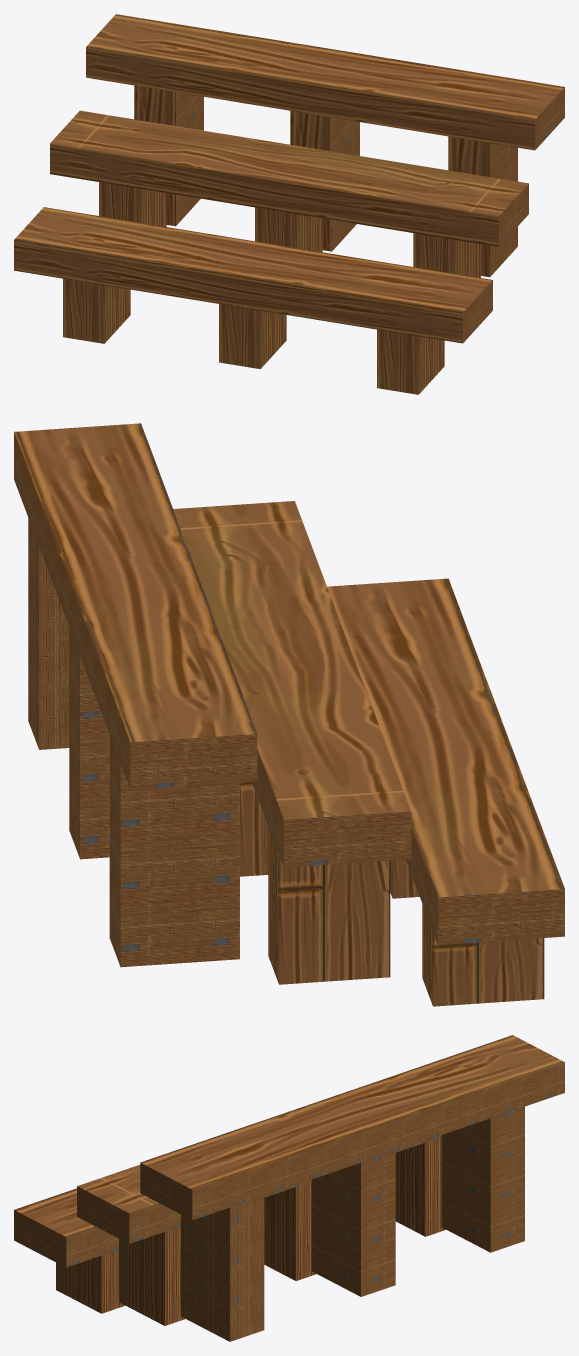
3 views of the same model, one above another, from view 1: azimuth 30°, elevation 25°; view 2: azimuth 150°, elevation 25°; view 3: azimuth 270°, elevation 25° (orthographic). The views are drawn at different scales.
Parts seen in each view (by area): view 1: Cube.582; view 2: Cube.582; view 3: Cube.582.
Part boxes in pixels (<box>): Cube.582: <box>14,14,564,394</box>; Cube.582: <box>14,423,564,1006</box>; Cube.582: <box>14,1035,564,1341</box>.
Bounding box in the file's own units: 304 × 132 × 321.
Materials: 1 (1 with a texture image).
